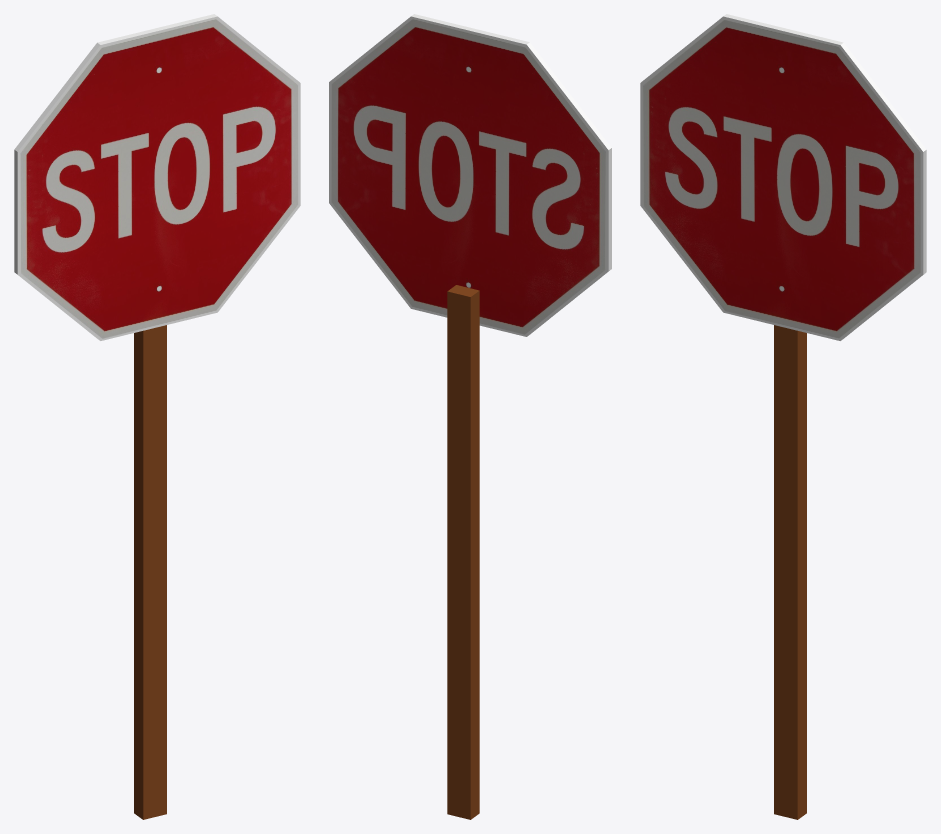
Rendered from stopSign.gltf.
3 views of the same model, side by side, from view 1: azimuth 30°, elevation 25°; view 2: azimuth 150°, elevation 25°; view 3: azimuth 330°, elevation 25° (orthographic).
Visible parts, largest first — view 1: node-0; view 2: node-0; view 3: node-0.
Part boxes in pixels (left/top/right/bottom): node-0: left=14, top=14, right=300, bottom=819; node-0: left=329, top=14, right=611, bottom=819; node-0: left=640, top=14, right=926, bottom=819.
Size of the model in its own units: 1.85 by 4.93 by 0.1503.
Materials: 2 (1 with a texture image).
